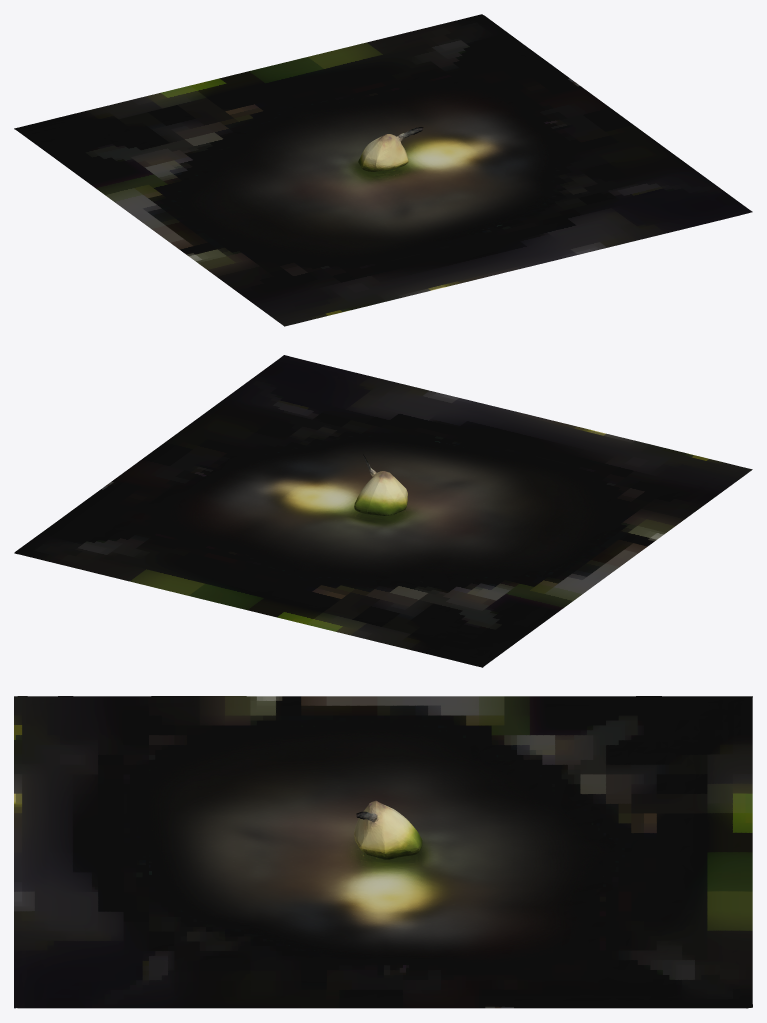
The picture shows the model from 3 angles, top to bottom: view 1: azimuth 30°, elevation 25°; view 2: azimuth 150°, elevation 25°; view 3: azimuth 270°, elevation 25°; orthographic projection. The views are drawn at different scales.
Visible parts, largest first — view 1: world; view 2: world; view 3: world.
Boxes of the visible parts, x1,y1,x2,y2 form: world: (14,14,752,326); world: (14,355,752,667); world: (14,696,752,1008).
Bounding box in the file's own units: 1 × 0.0901 × 1.
1 material, 1 textured.
